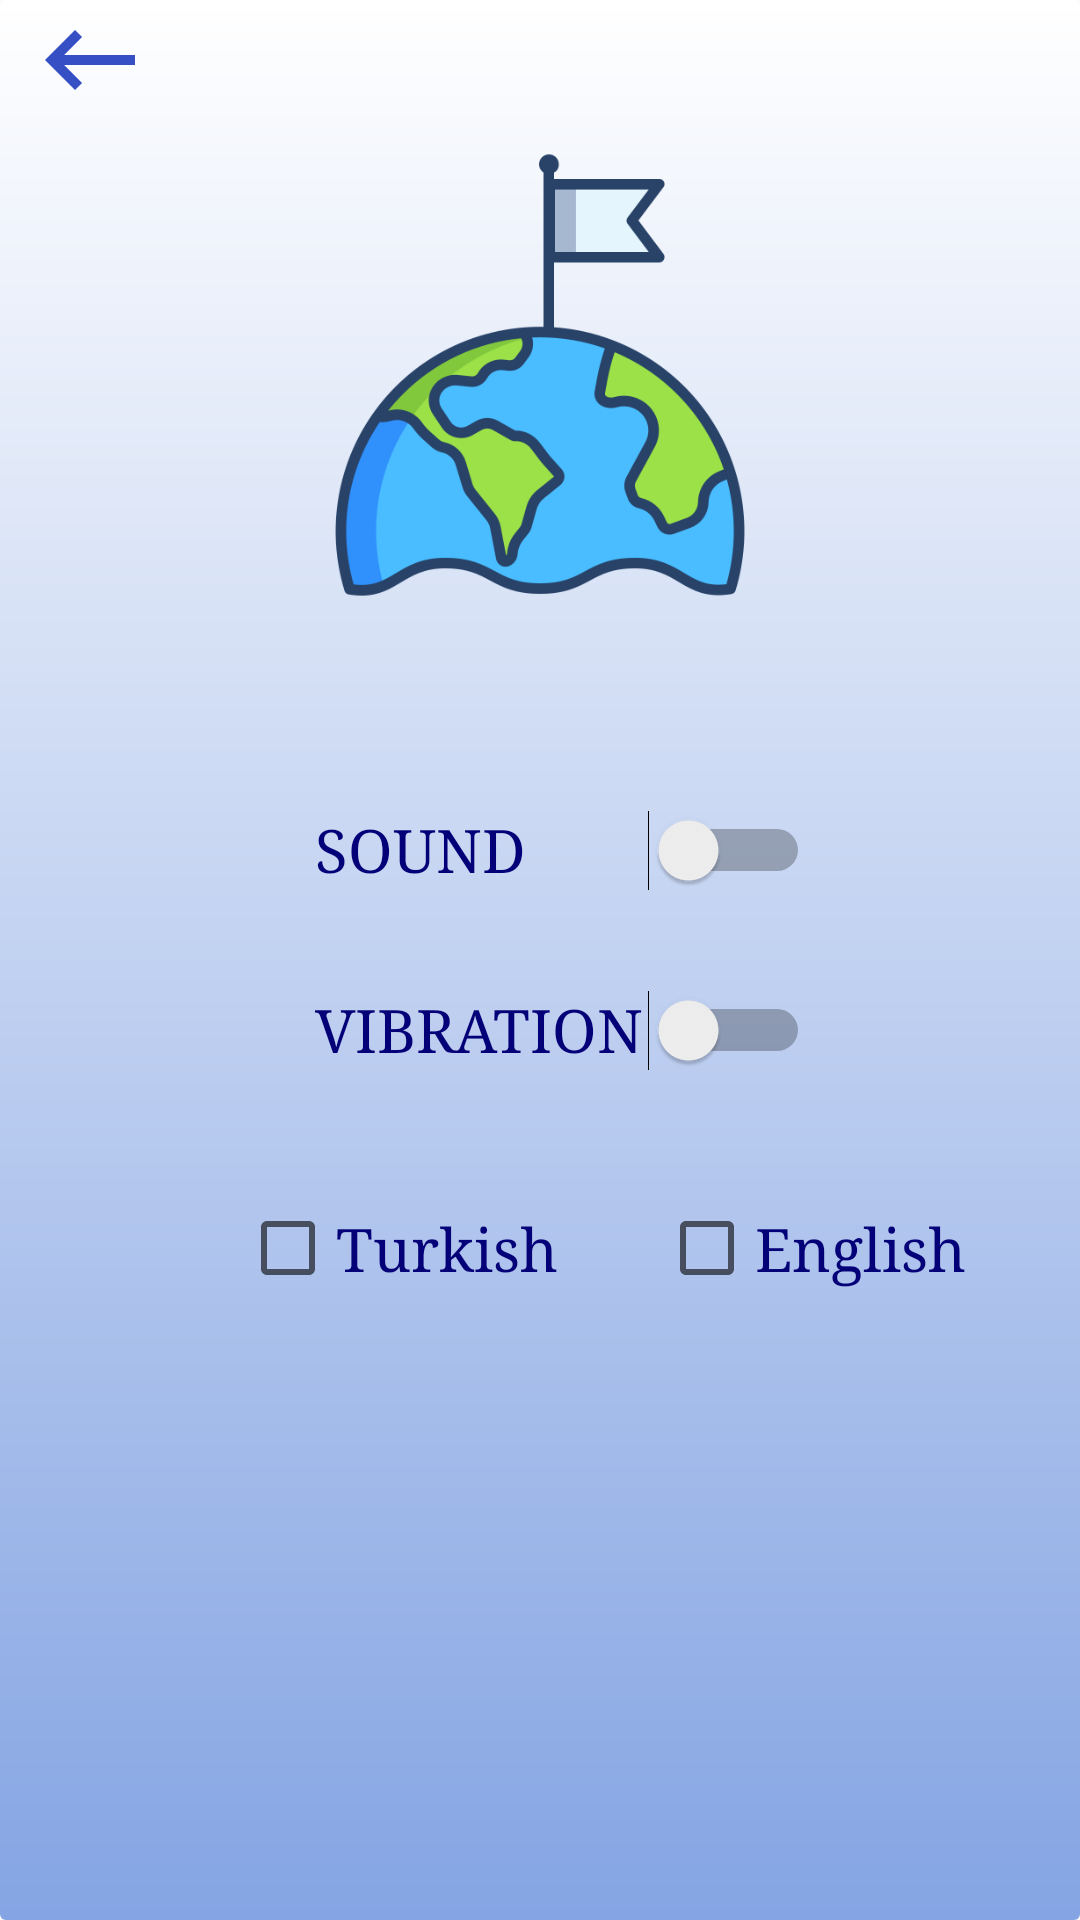

Icons on this 1080 x 1920 Android screen, each with the point to tap as point (x, y):
keyboard backspace: point (90, 60)
